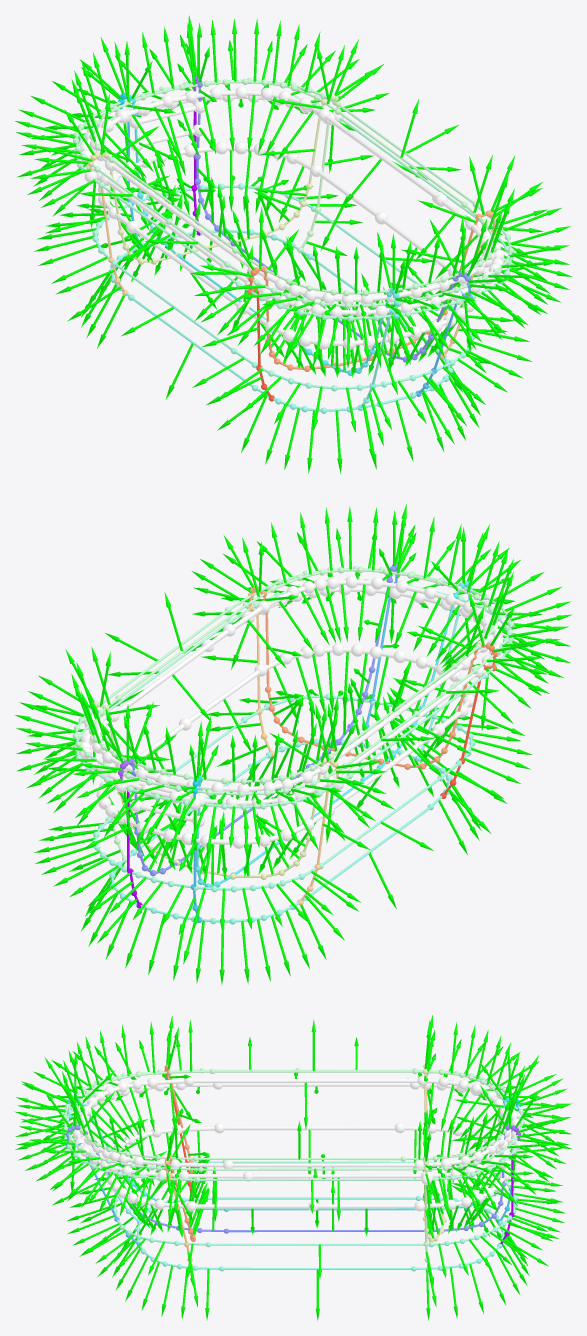
Rendered from flowrep_bathtub.gltf.
3 views of the same model, one above another, from view 1: azimuth 30°, elevation 25°; view 2: azimuth 150°, elevation 25°; view 3: azimuth 270°, elevation 25° (orthographic). The views are drawn at different scales.
Bounding box in the file's own units: 0.6368 × 0.4355 × 1.05.
